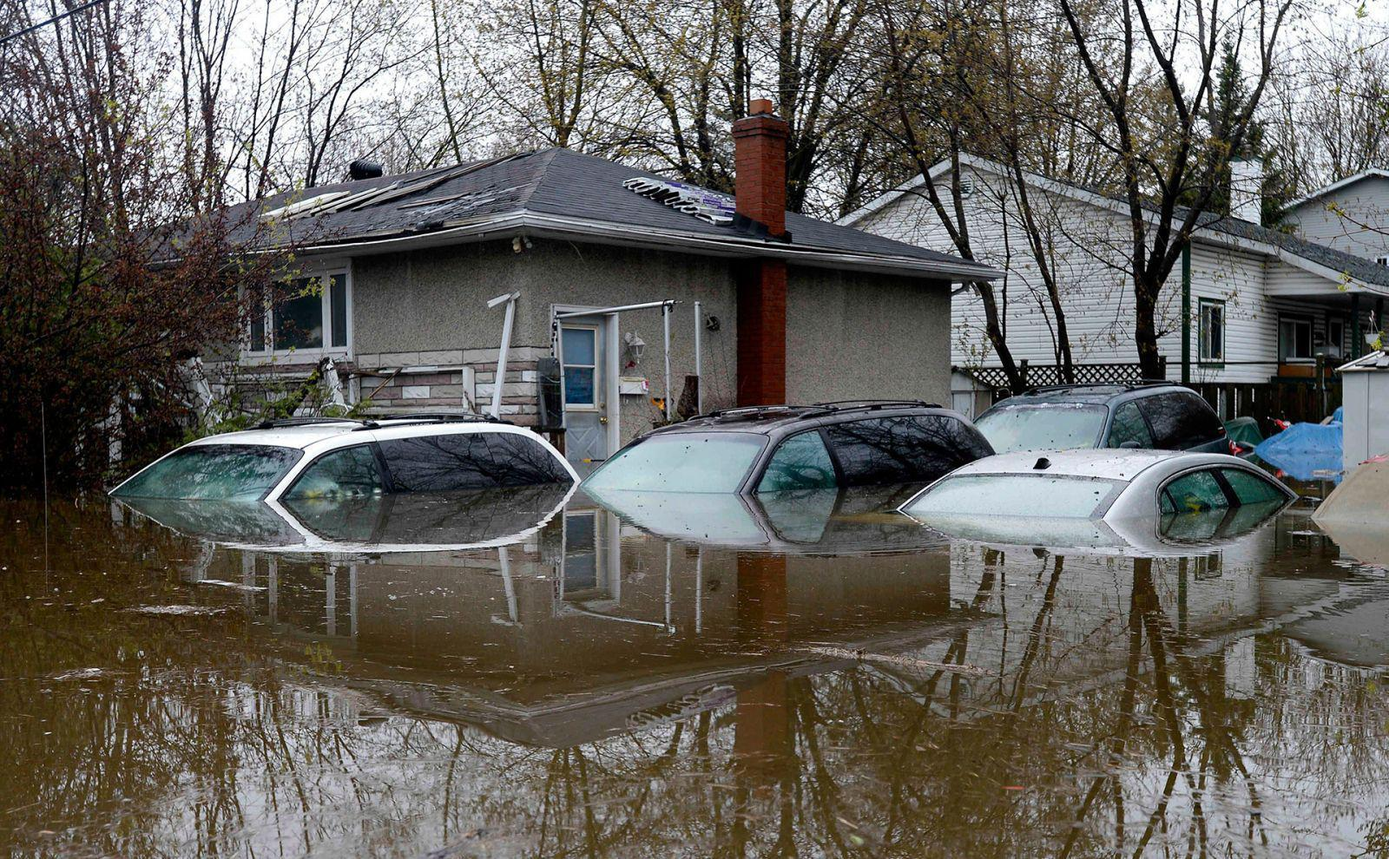water: (0, 487, 1388, 856)
